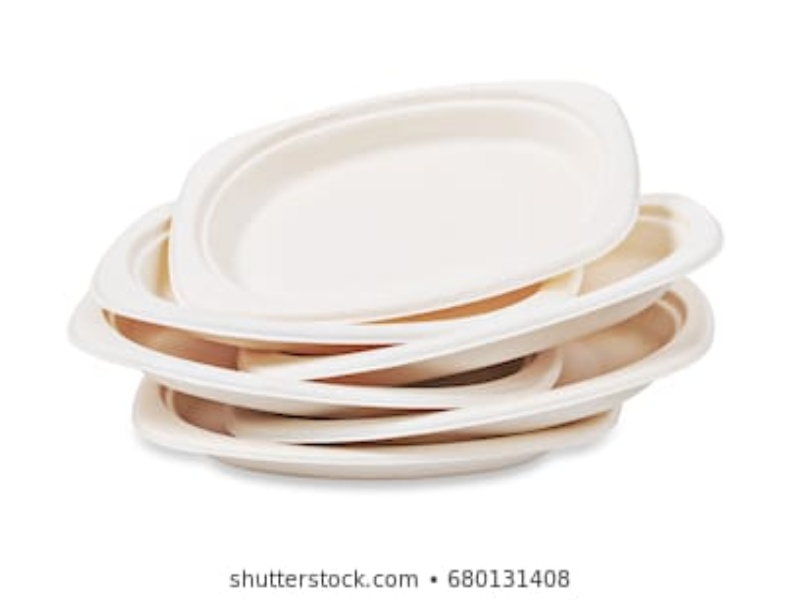plastic-plate: (165, 79, 647, 317), (238, 189, 718, 381), (92, 195, 601, 352), (223, 275, 718, 433), (64, 286, 565, 409), (134, 376, 637, 484)
